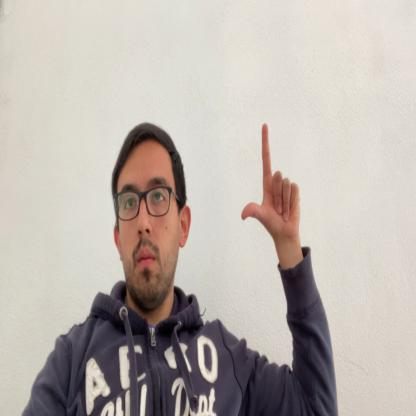L: (241, 122, 302, 238)
